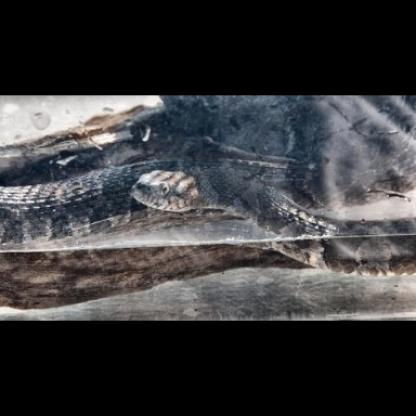Snake: (5, 142, 416, 276)
